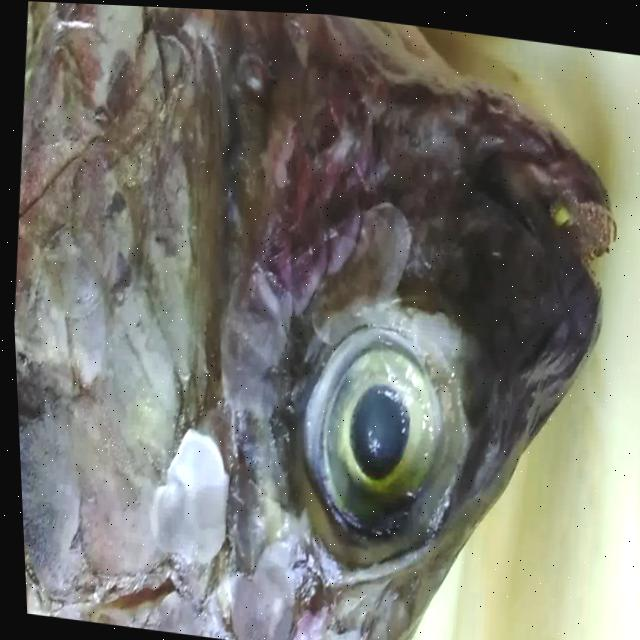Non-Fresh: (252, 271, 512, 586)
